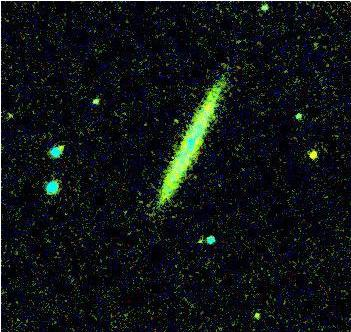star: (296, 138, 326, 168)
